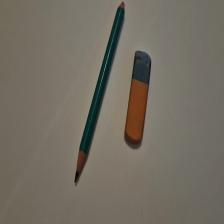eraser: (125, 51, 152, 144)
pencil: (75, 2, 126, 184)
